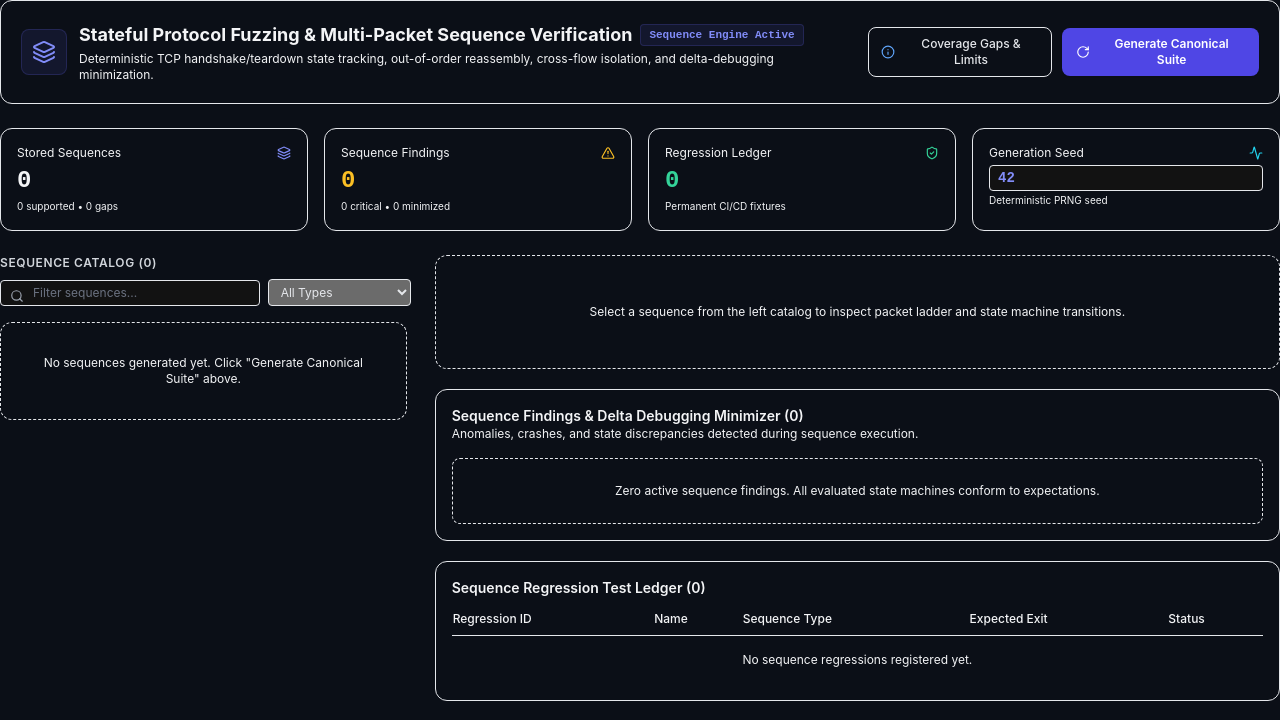
Test: StatefulSequenceWorkbench Component › safely handles backend coverage gaps returning supported_stateful_semantics without crashing on map
What coordinates should you click on to do the following:
click the button "Coverage Gaps & Limits"
I would click on:
 (960, 52)
Its box is [868,27,1052,77].
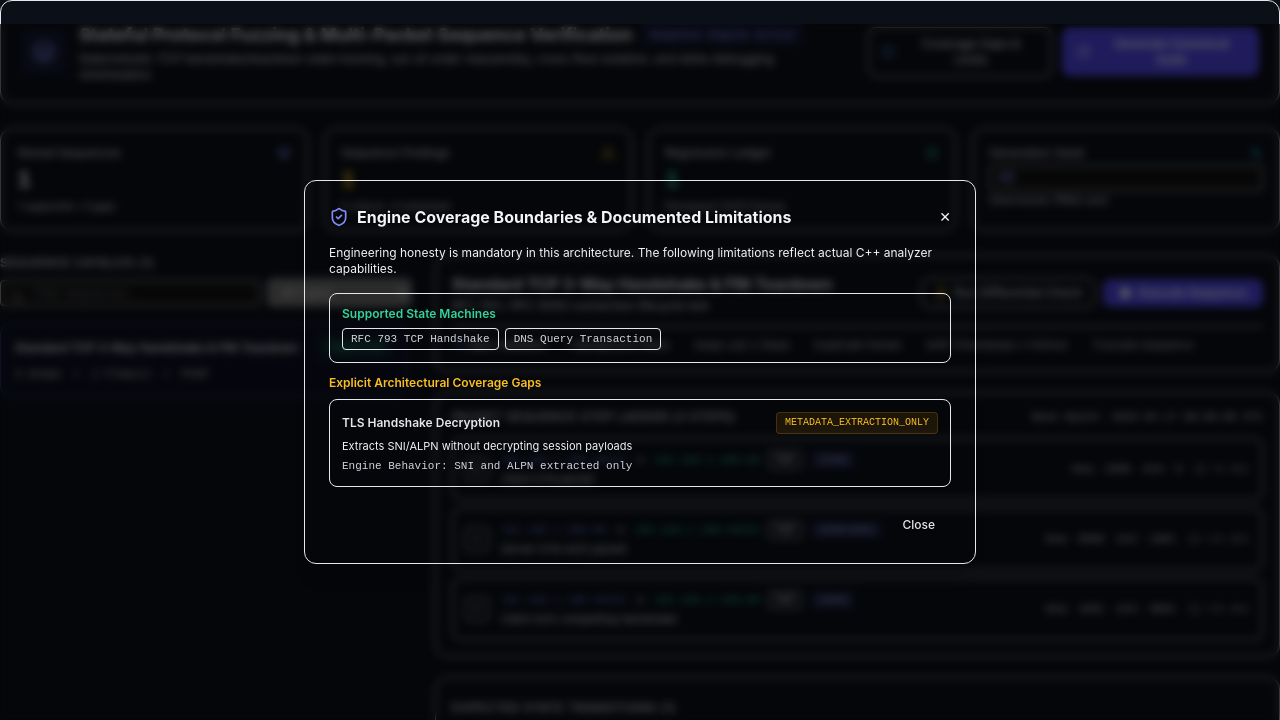
Expected: the text "RFC 793 TCP Handshake" is shown, [342,328,499,350]
Expected: the text "TLS Handshake Decryption" is shown, [342,415,500,431]
Expected: the text "METADATA_EXTRACTION_ONLY" is shown, [776,412,938,434]
